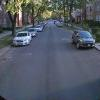Car: (11, 22, 41, 50)
